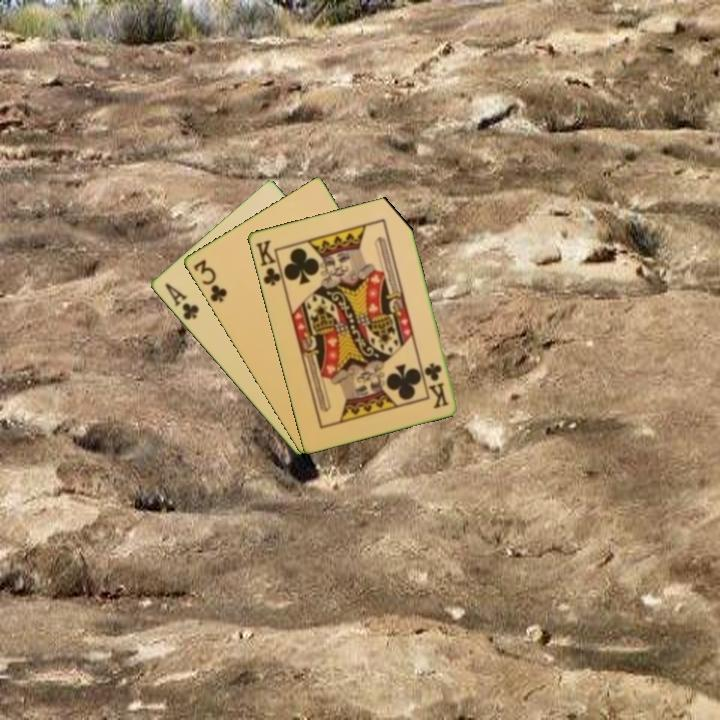3c: (189, 256, 230, 305)
Ac: (161, 279, 201, 323)
Kc: (252, 236, 286, 289), (421, 359, 451, 411)
